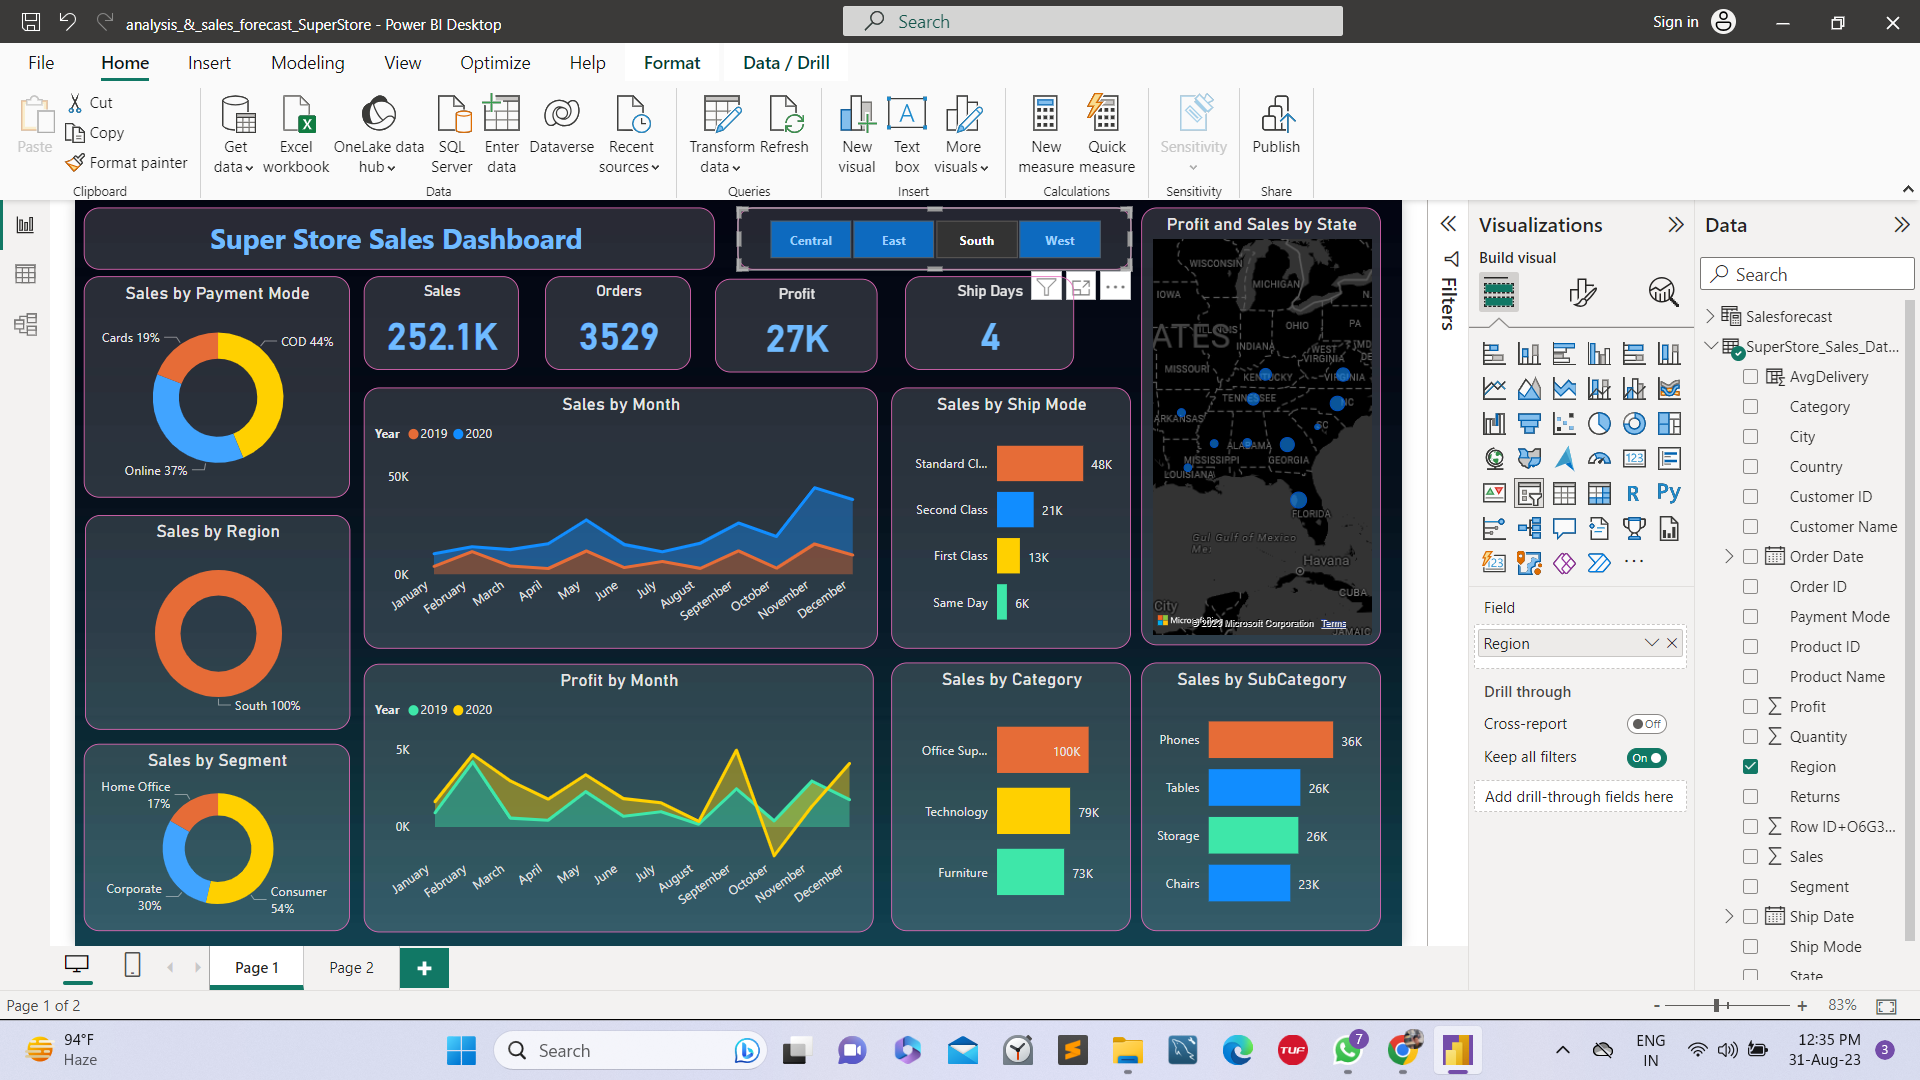

What the dashboard file says about the page in this screenshot:
{"tool":"powerbi","page":{"name":"Page 1","canvas":[1280,720],"ordinal":0},"visuals":[{"type":"clusteredBarChart","title":" Sales by Category","fields":{"Category":["SuperStore_Sales_Dataset.Category"],"Y":["Sum(SuperStore_Sales_Dataset.Sales)"]},"box":[787.5,446.2,231.6,259.3],"z":0},{"type":"clusteredBarChart","title":" Sales by SubCategory","fields":{"Category":["SuperStore_Sales_Dataset.Sub-Category"],"Y":["Sum(SuperStore_Sales_Dataset.Sales)"]},"box":[1028.7,446.2,231.6,259.3],"z":1000},{"type":"clusteredBarChart","title":" Sales by Ship Mode","fields":{"Category":["SuperStore_Sales_Dataset.Ship Mode"],"Y":["Sum(SuperStore_Sales_Dataset.Sales)"]},"box":[787.5,180.9,231.6,252.1],"z":2000},{"type":"stackedAreaChart","title":" Sales by Month","fields":{"Y":["Sum(SuperStore_Sales_Dataset.Sales)"],"Category":["SuperStore_Sales_Dataset.Order Date.Variation.Date Hierarchy.Month","SuperStore_Sales_Dataset.Order Date.Variation.Date Hierarchy.Day"],"Series":["SuperStore_Sales_Dataset.Order Date.Variation.Date Hierarchy.Year"]},"box":[278.6,180.9,495.7,252.1],"z":3000},{"type":"stackedAreaChart","title":" Profit by Month","fields":{"Category":["SuperStore_Sales_Dataset.Order Date.Variation.Date Hierarchy.Month","SuperStore_Sales_Dataset.Order Date.Variation.Date Hierarchy.Day"],"Series":["SuperStore_Sales_Dataset.Order Date.Variation.Date Hierarchy.Year"],"Y":["Sum(SuperStore_Sales_Dataset.Profit)"]},"box":[278.6,447.4,492.1,259.3],"z":4000},{"type":"map","title":" Profit and Sales by State","fields":{"Category":["SuperStore_Sales_Dataset.State"],"Size":["Sum(SuperStore_Sales_Dataset.Sales)"]},"box":[1028.7,7.2,231.6,422.1],"z":5000},{"type":"donutChart","title":"Sales by Segment","fields":{"Category":["SuperStore_Sales_Dataset.Segment"],"Y":["Sum(SuperStore_Sales_Dataset.Sales)"]},"box":[8.4,524.6,256.9,180.9],"z":6000},{"type":"donutChart","title":"Sales by Payment Mode","fields":{"Category":["SuperStore_Sales_Dataset.Payment Mode","SuperStore_Sales_Dataset.Segment"],"Y":["Sum(SuperStore_Sales_Dataset.Sales)"]},"box":[8.4,73.6,256.9,213.5],"z":7000},{"type":"slicer","fields":{"Values":["SuperStore_Sales_Dataset.Region"]},"box":[639.2,7.2,379.9,60.3],"z":8000},{"type":"textbox","box":[8.4,7.2,609,60.3],"z":9000},{"type":"card","title":"Sales","fields":{"Values":["Sum(SuperStore_Sales_Dataset.Sales)"]},"box":[278.6,73.6,149.5,90.5],"z":10000},{"type":"card","title":"Orders","fields":{"Values":["Sum(SuperStore_Sales_Dataset.Quantity)"]},"box":[453.5,73.6,141.1,90.5],"z":11000},{"type":"card","title":"Profit","fields":{"Values":["Sum(SuperStore_Sales_Dataset.Profit)"]},"box":[617.5,76,156.8,90.5],"z":12000},{"type":"card","title":"Ship Days","fields":{"Values":["Avg(SuperStore_Sales_Dataset.AvgDelivery)"]},"box":[800.8,73.6,162.8,90.5],"z":13000},{"type":"donutChart","title":"Sales by Region","fields":{"Y":["Sum(SuperStore_Sales_Dataset.Sales)"],"Category":["SuperStore_Sales_Dataset.Region"]},"box":[9.6,303.9,255.7,207.4],"z":14000}]}

Visuals, with their boxes on the page's 1280x720 design canvas (x1, y1, x2, y2). These are canvas units, not pixel positions in the 1920x1080 screenshot, which may show the page scaled, cropped or inside an application window:
" Sales by Category" clusteredBarChart: bbox=(788, 446, 1019, 706)
" Sales by SubCategory" clusteredBarChart: bbox=(1029, 446, 1260, 706)
" Sales by Ship Mode" clusteredBarChart: bbox=(788, 181, 1019, 433)
" Sales by Month" stackedAreaChart: bbox=(279, 181, 774, 433)
" Profit by Month" stackedAreaChart: bbox=(279, 447, 771, 707)
" Profit and Sales by State" map: bbox=(1029, 7, 1260, 429)
"Sales by Segment" donutChart: bbox=(8, 525, 265, 706)
"Sales by Payment Mode" donutChart: bbox=(8, 74, 265, 287)
slicer - SuperStore_Sales_Dataset.Region: bbox=(639, 7, 1019, 68)
textbox: bbox=(8, 7, 617, 68)
"Sales" card: bbox=(279, 74, 428, 164)
"Orders" card: bbox=(454, 74, 595, 164)
"Profit" card: bbox=(618, 76, 774, 166)
"Ship Days" card: bbox=(801, 74, 964, 164)
"Sales by Region" donutChart: bbox=(10, 304, 265, 511)
